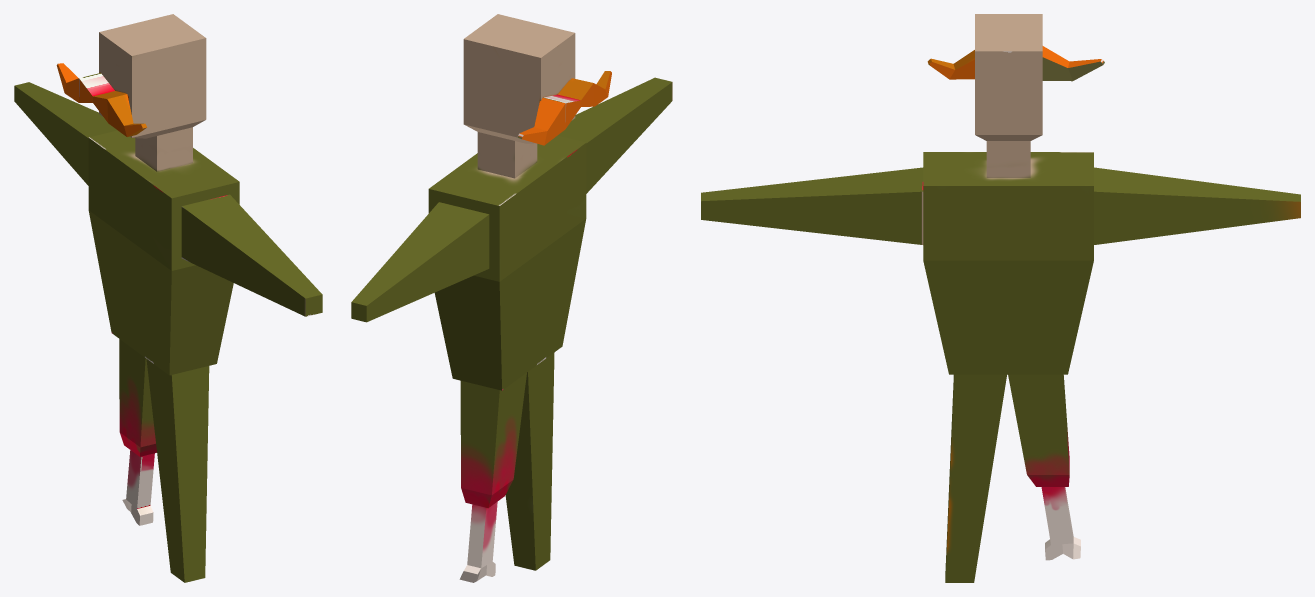
Rendered from orange stache man.fbx.
3 views of the same model, side by side, from view 1: azimuth 30°, elevation 25°; view 2: azimuth 150°, elevation 25°; view 3: azimuth 270°, elevation 25° (orthographic). The views are drawn at different scales.
Visible parts, largest first — view 1: base stache.001; view 2: base stache.001; view 3: base stache.001.
Boxes of the visible parts, x1,y1,x2,y2 form: base stache.001: (14,14,322,582); base stache.001: (351,14,672,582); base stache.001: (701,14,1300,582).
Bounding box in the file's own units: 25.35 × 121 × 122.
